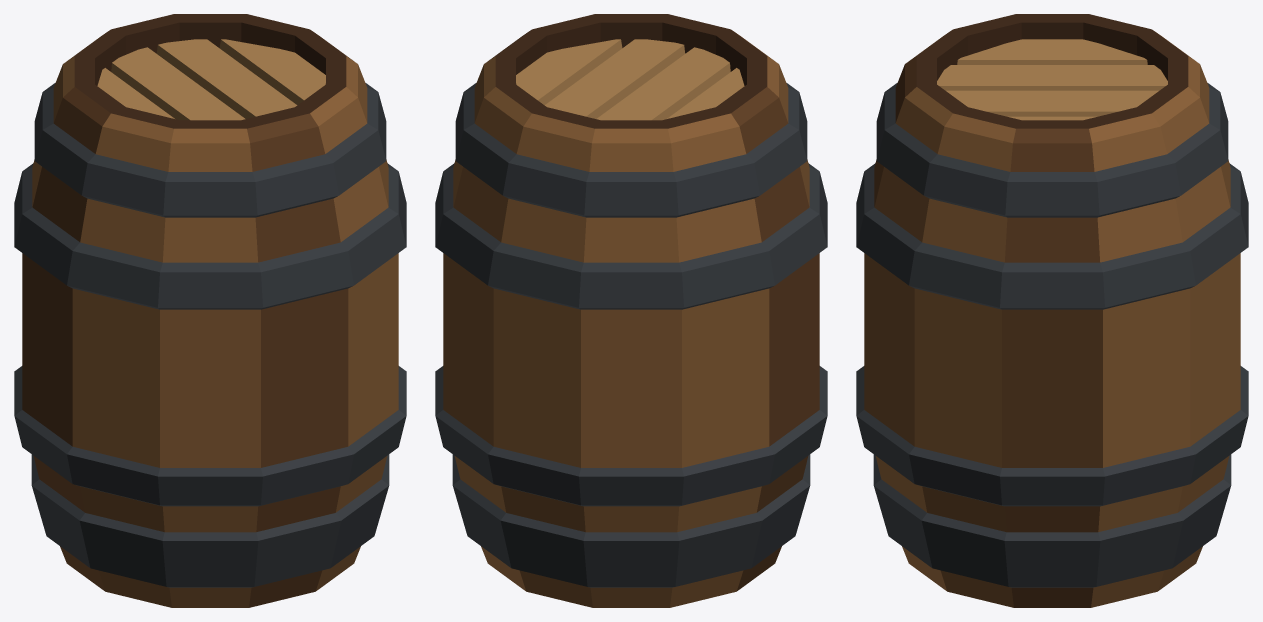
Rendered from barrel-8d63c4.glb.
3 views of the same model, side by side, from view 1: azimuth 30°, elevation 25°; view 2: azimuth 150°, elevation 25°; view 3: azimuth 270°, elevation 25° (orthographic).
Parts seen in each view (by area): view 1: barrel-body, lid-planks; view 2: barrel-body, lid-planks; view 3: barrel-body, lid-planks.
Boxes of the visible parts, left/top/right/bottom form: barrel-body: left=14, top=14, right=406, bottom=607; lid-planks: left=97, top=39, right=325, bottom=120; barrel-body: left=435, top=14, right=827, bottom=607; lid-planks: left=516, top=39, right=744, bottom=120; barrel-body: left=856, top=14, right=1248, bottom=607; lid-planks: left=937, top=39, right=1167, bottom=120.
Size of the model in its own units: 0.6722 by 0.9 by 0.6722.
